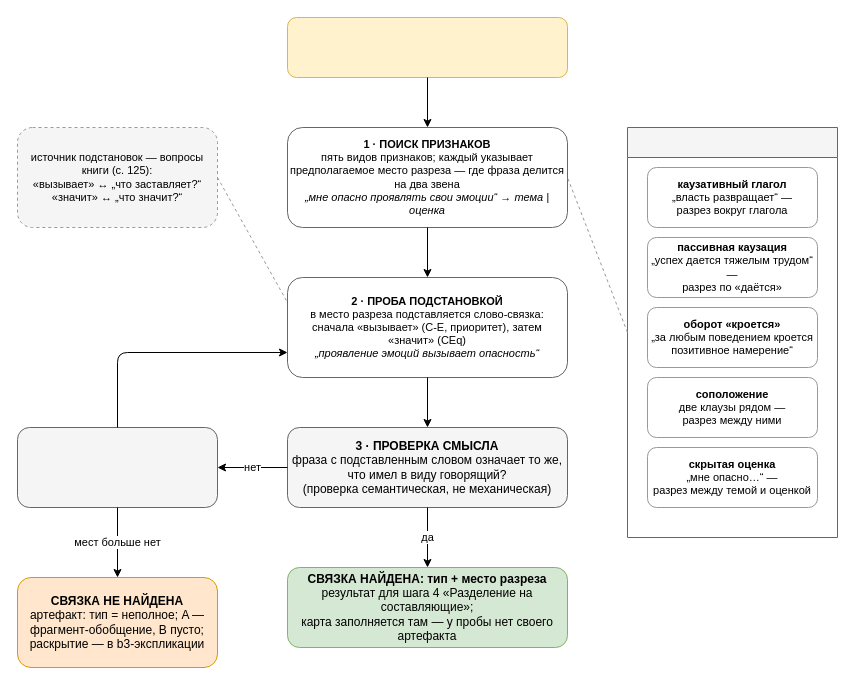
This 863x685 diagram has some shape labels left out. The box of each missing label's shape, as (x1, y1, x2, y2) in pixels:
Признаки — где искать место разреза: (626, 126, 838, 538)
СЛЕДУЮЩЕЕ МЕСТО РАЗРЕЗА перебор слева направо — фиксируется первый успешный: (16, 426, 218, 508)
утверждение без явного маркера после шага 2 разбора (связка не найдена): (286, 16, 568, 78)
